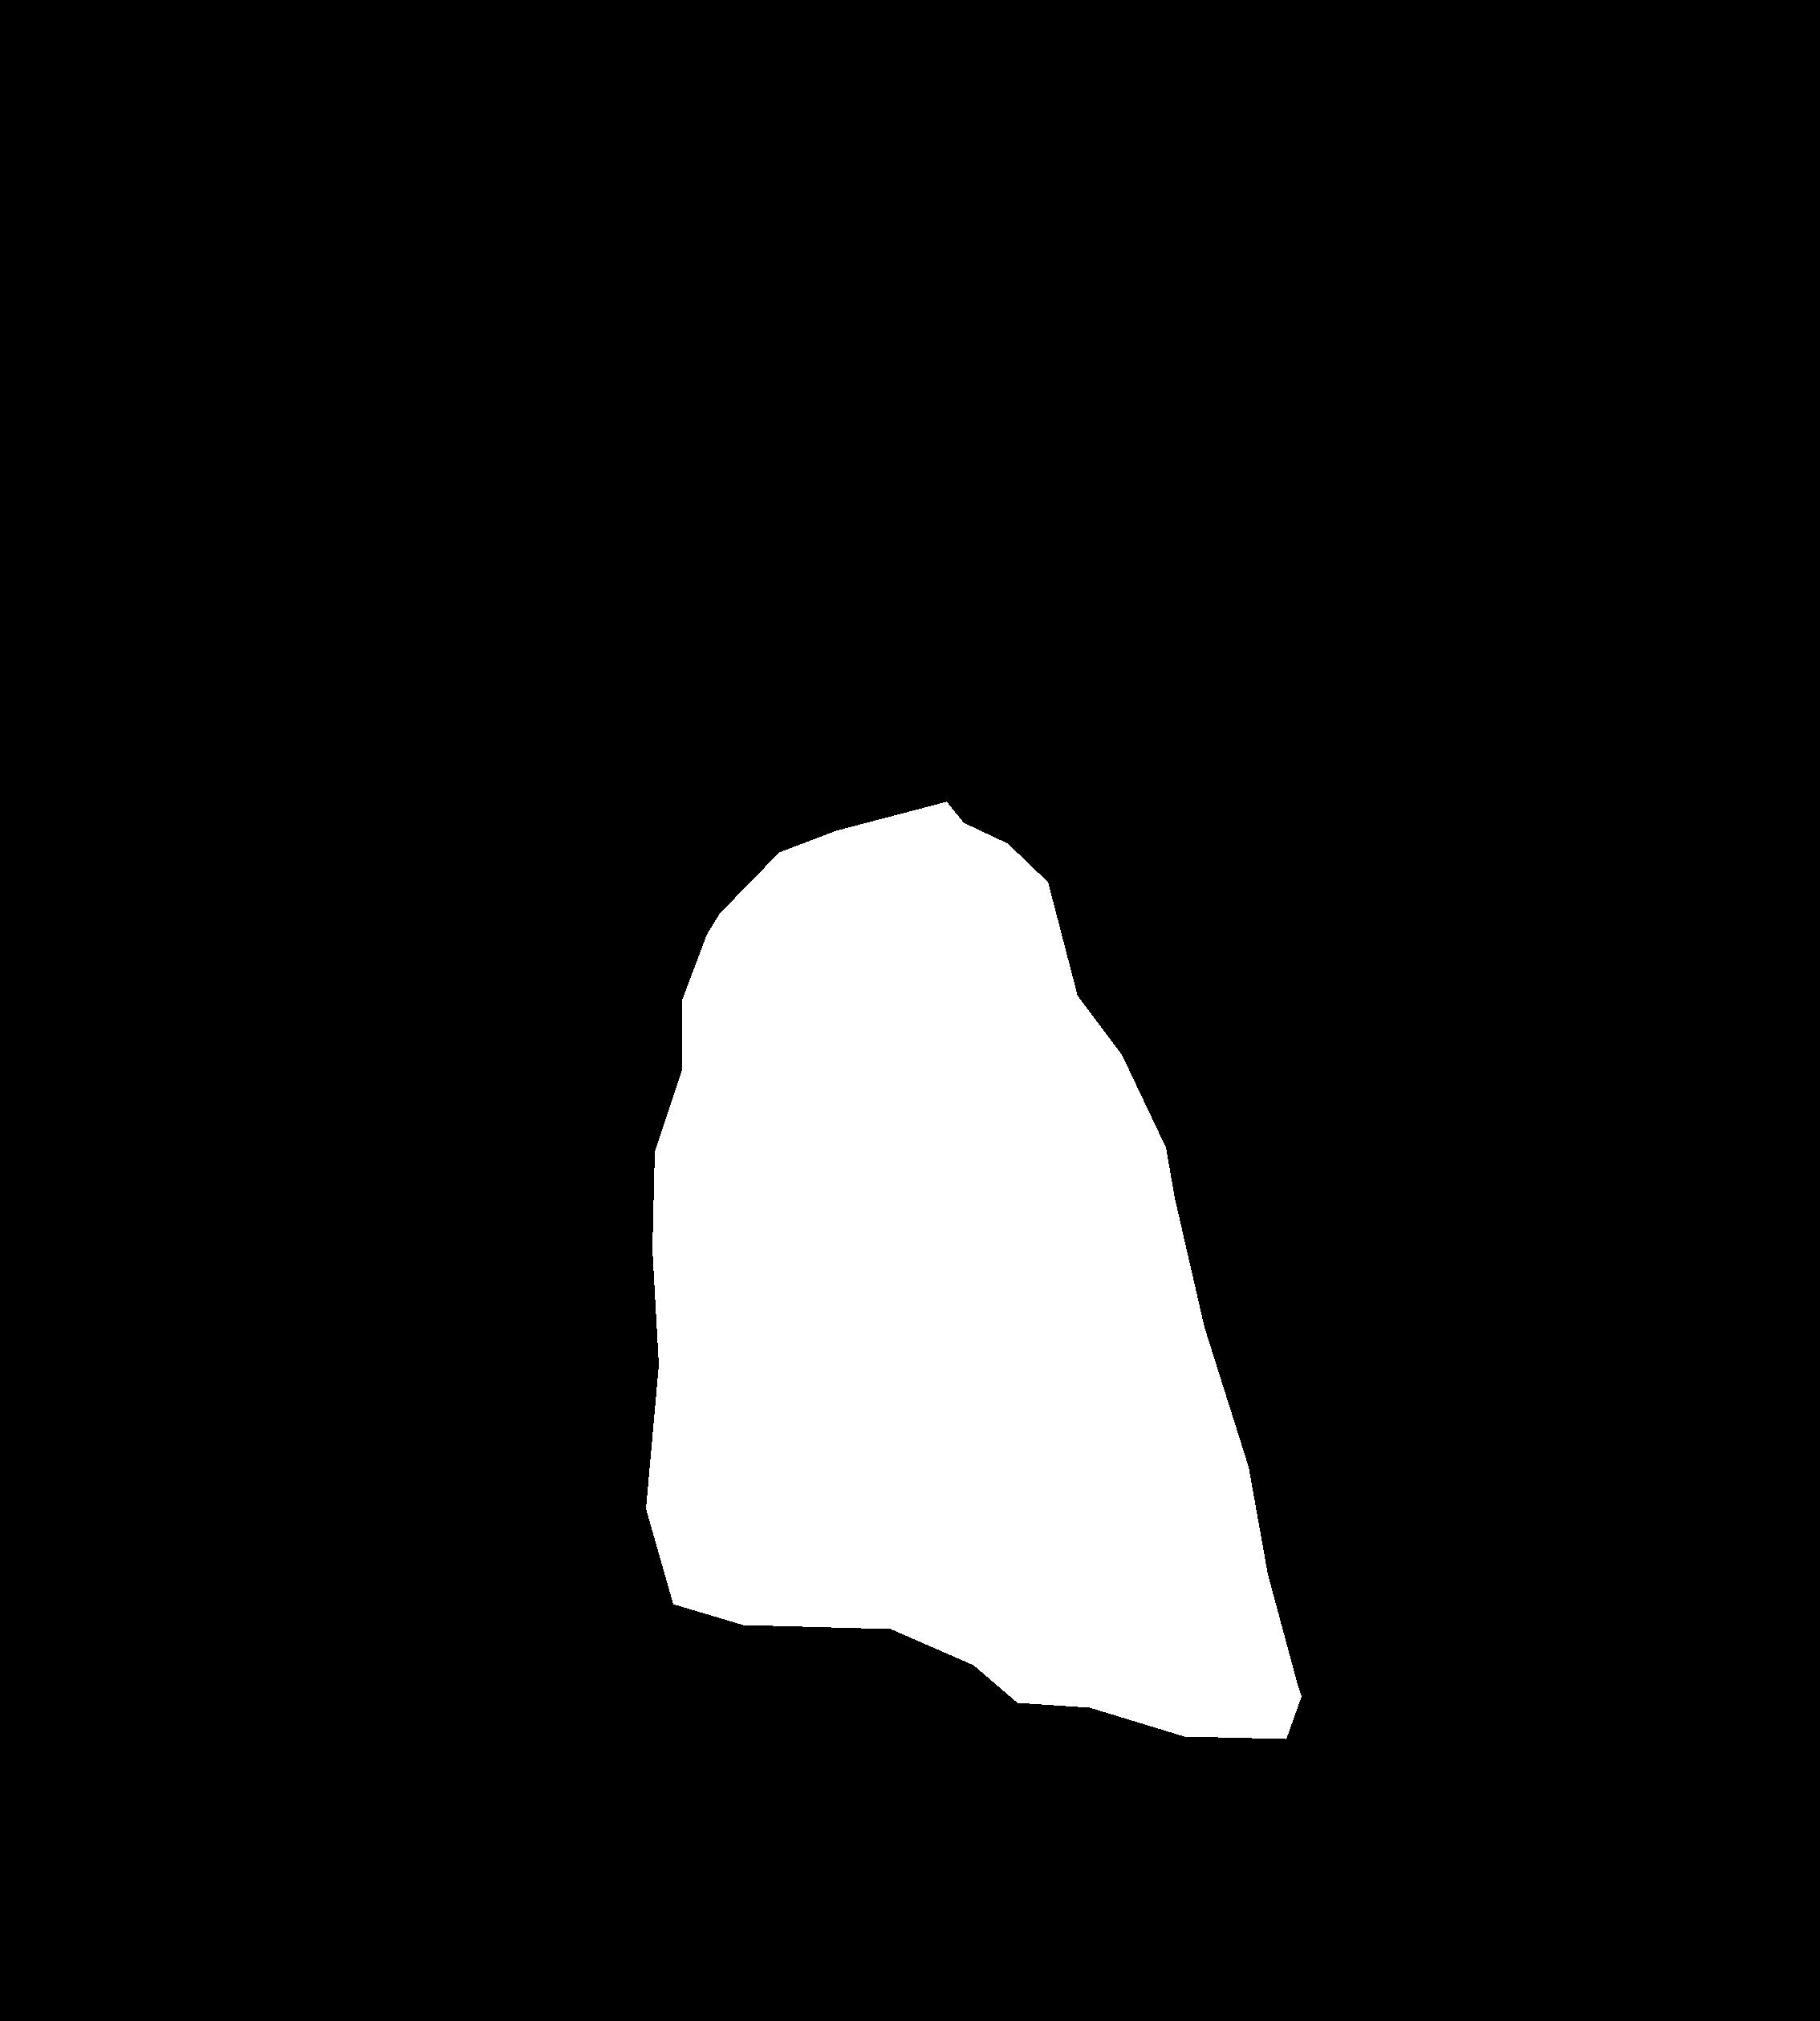heart: (646, 801, 1300, 1738)
left_lung: (53, 111, 819, 1854)
right_lung: (991, 111, 1658, 1944)
